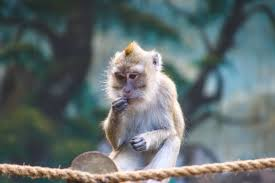monkey: (89, 20, 190, 175)
